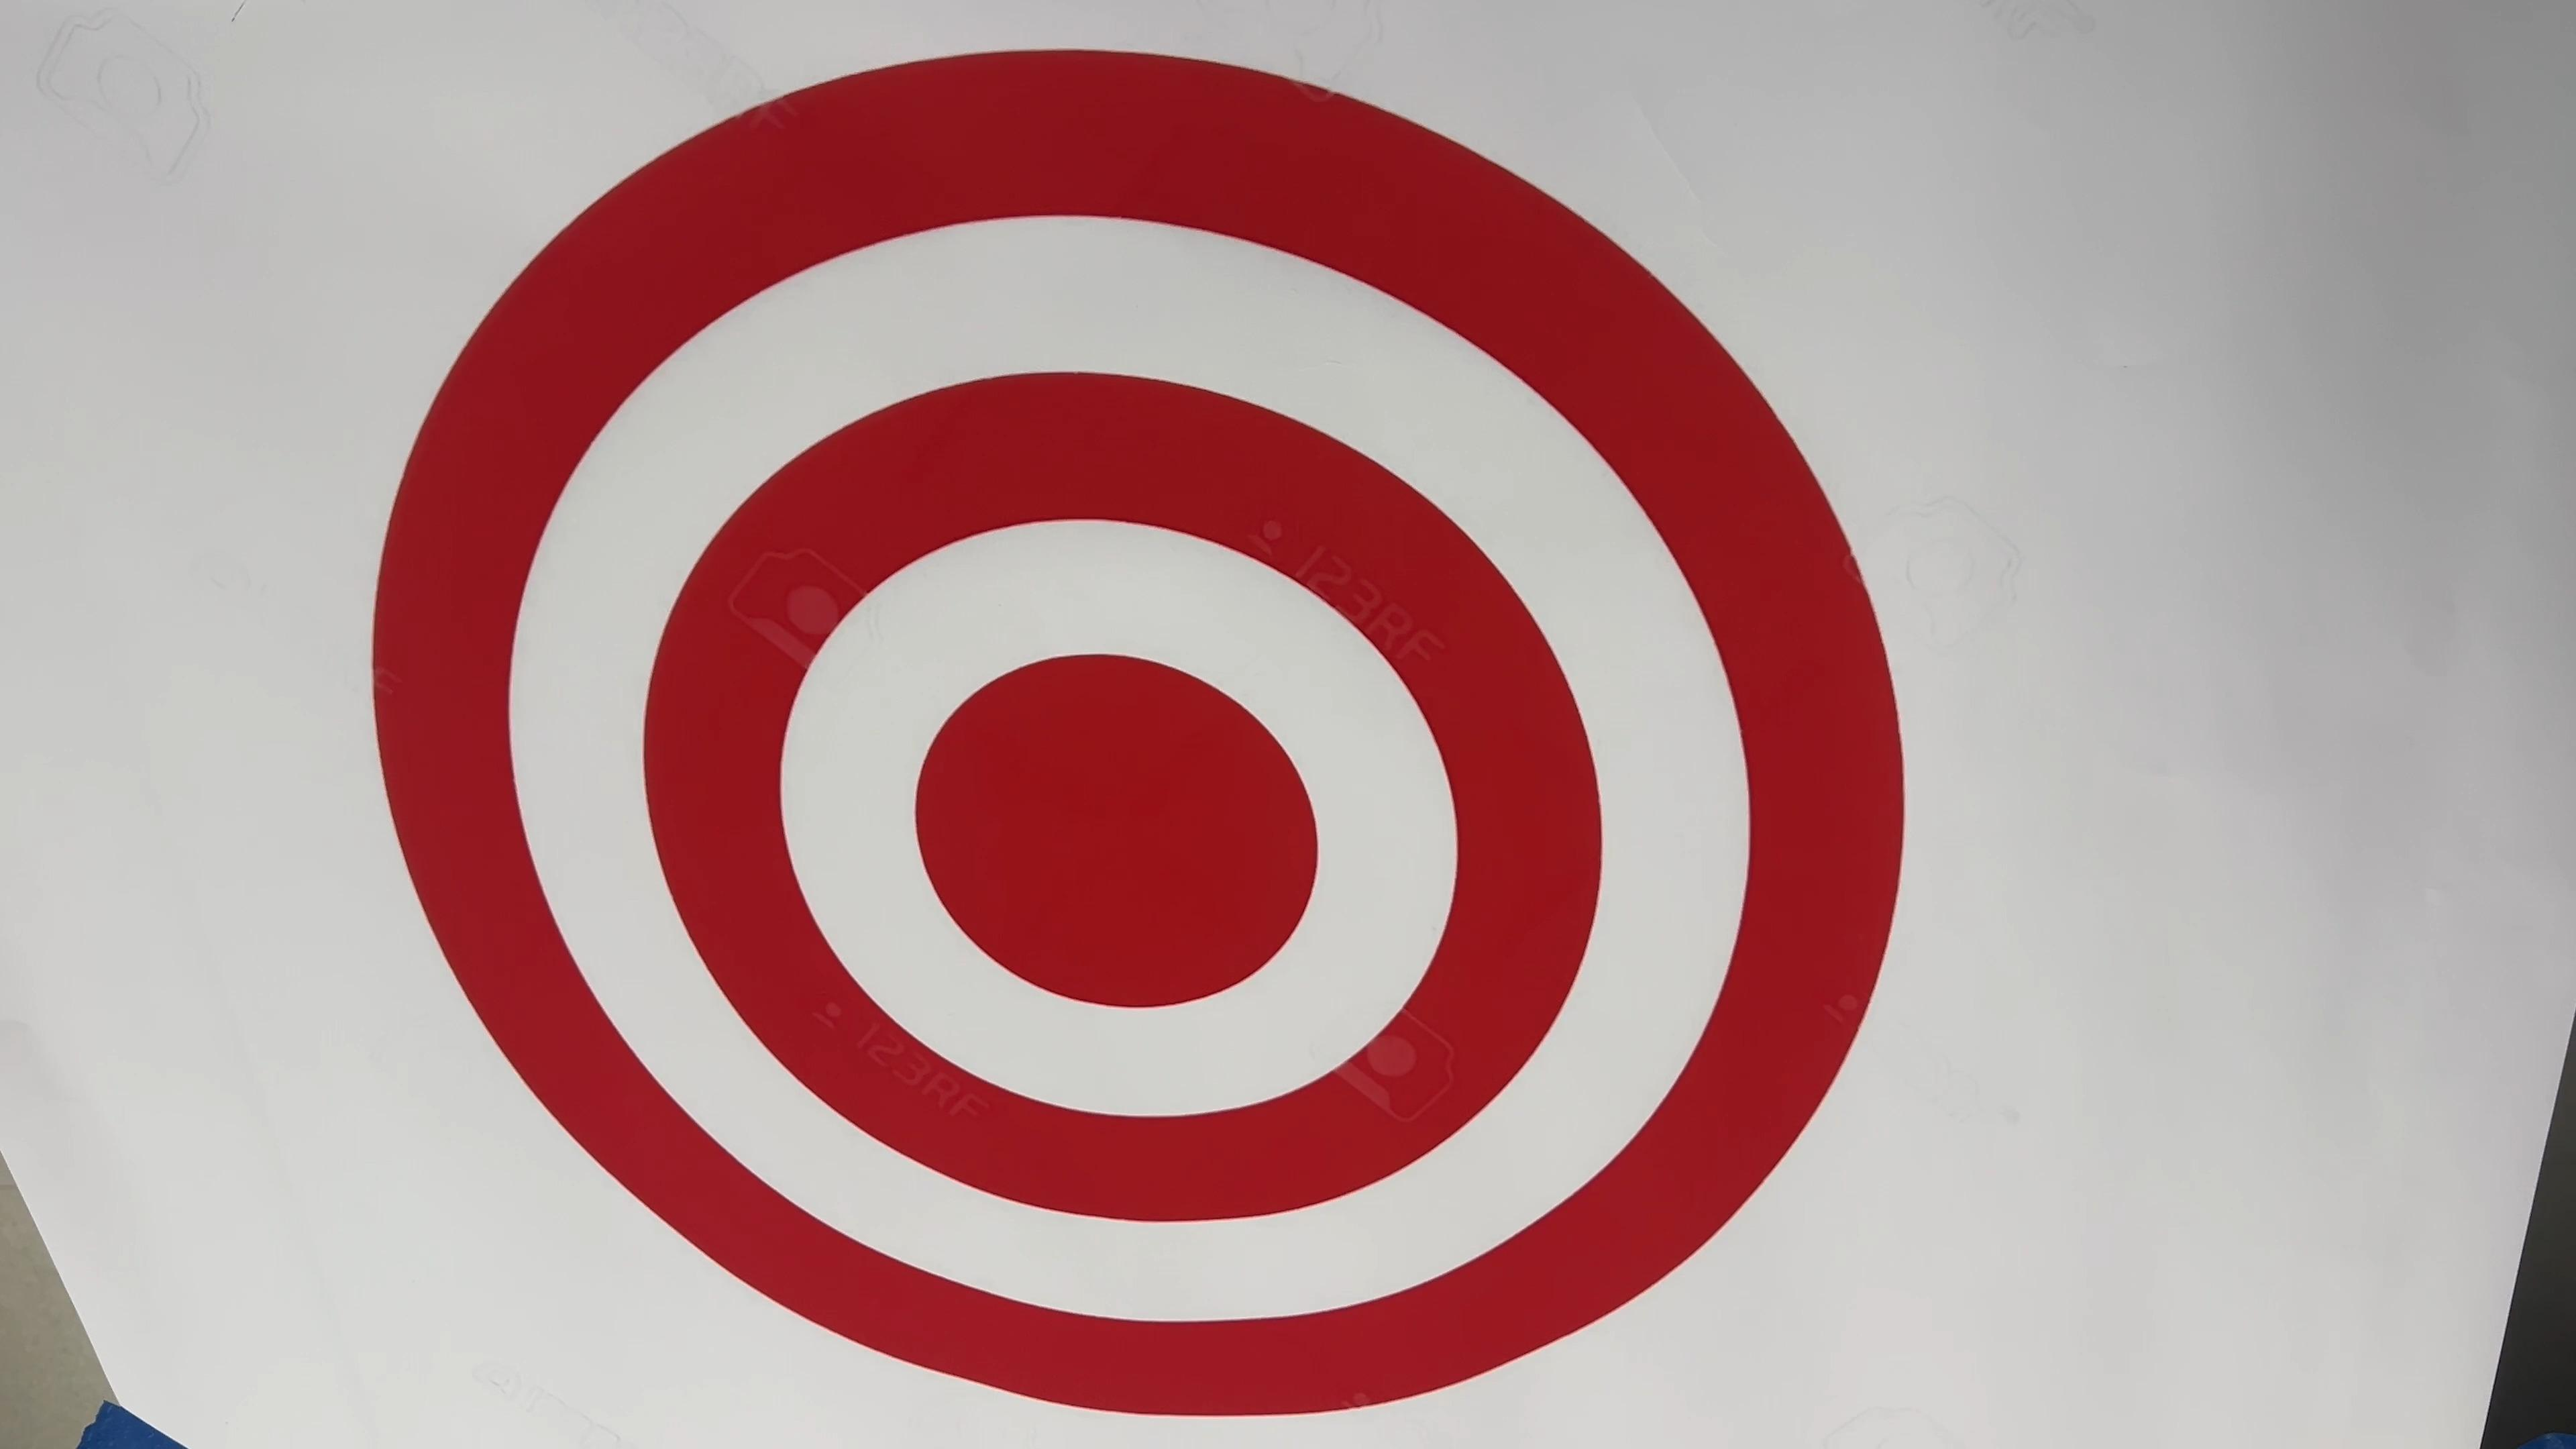target_red: (377, 48, 1941, 1433)
